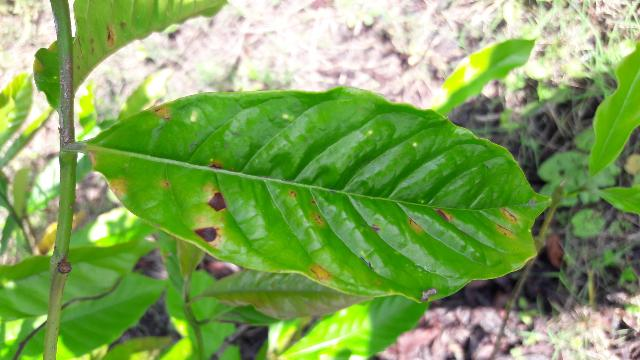rust_level_2: (90, 84, 552, 304)
